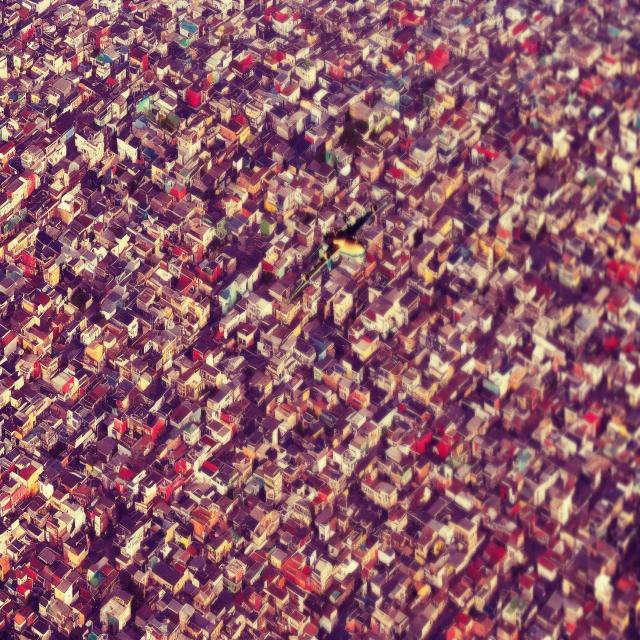airplane: (289, 208, 375, 298)
